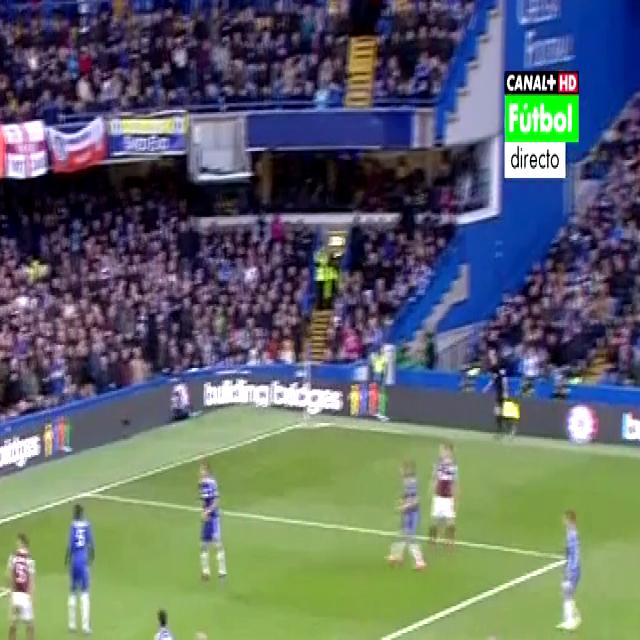referee: (488, 344, 527, 454), (183, 610, 224, 640)
soccer-player: (189, 443, 234, 594), (60, 485, 101, 640), (384, 448, 428, 581), (548, 493, 587, 637), (0, 517, 44, 640), (425, 426, 464, 560), (142, 595, 183, 640), (472, 624, 518, 640)
